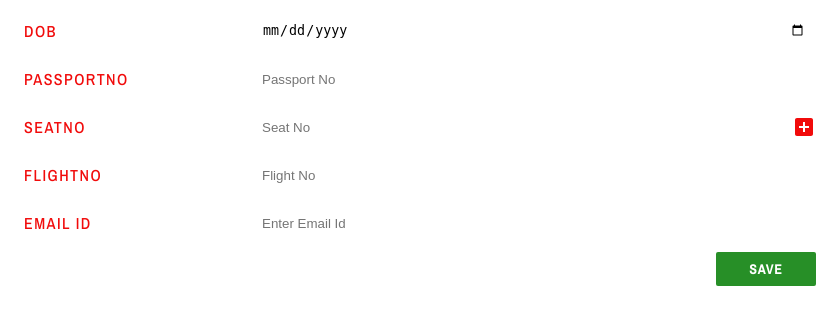
Test case: check form data changes › should display error on in valid email
The image size is (833, 325).
Type "fghfghj" into the field with id "email" at (534, 223), box [252,206,816,240]
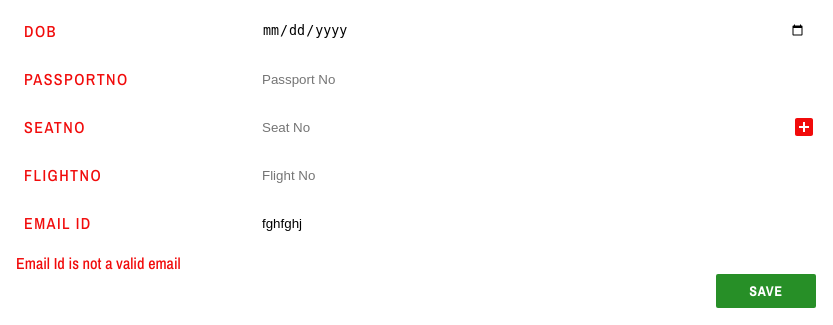
Result: the text "Email Id is not a valid email" is shown at [16,252,181,274]
